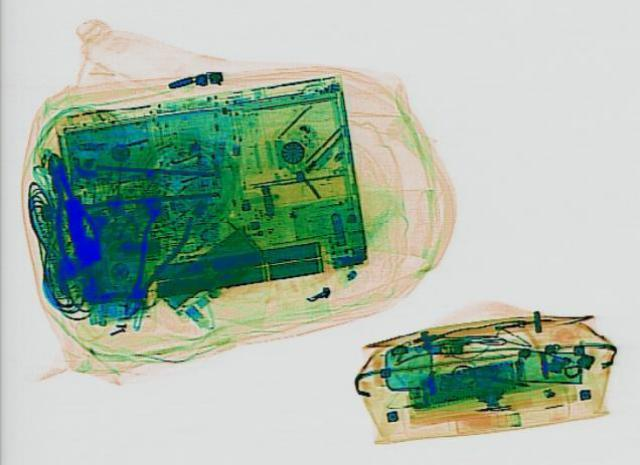Pliers: (25, 150, 111, 275), (104, 207, 194, 320)
